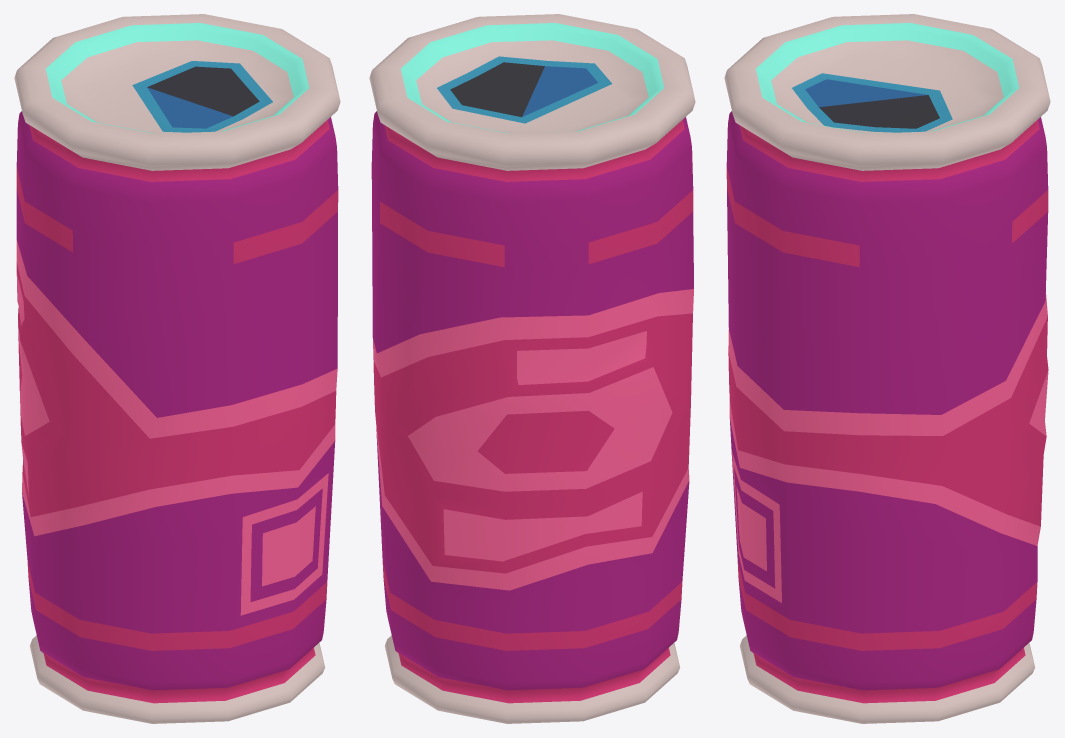
The model's file is Energy.glb.
3 renders of one model, left to right at view 1: azimuth 30°, elevation 25°; view 2: azimuth 150°, elevation 25°; view 3: azimuth 270°, elevation 25°, orthographic.
Parts seen in each view (by area): view 1: Cylinder; view 2: Cylinder; view 3: Cylinder.
Part boxes in pixels (<box>): Cylinder: <box>14,14,340,723</box>; Cylinder: <box>369,14,695,723</box>; Cylinder: <box>724,14,1050,723</box>.
Bounding box in the file's own units: 2.76 × 5.51 × 2.77.
1 material, 1 textured.
